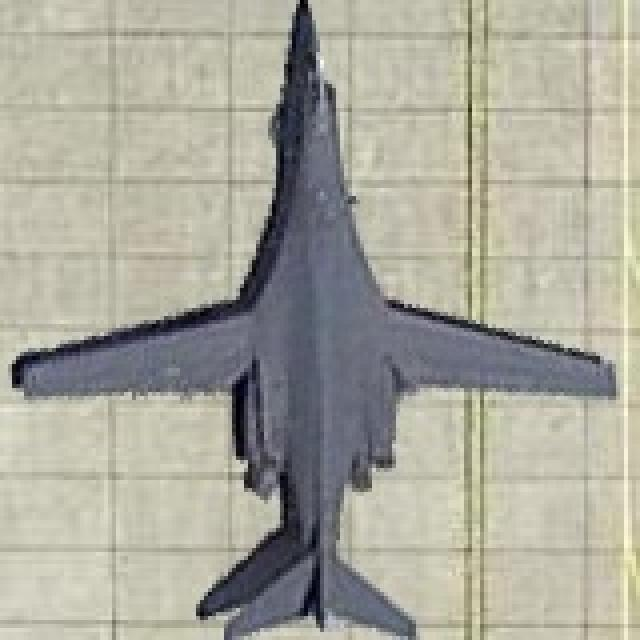B-1_TopDown: (8, 0, 616, 636)
